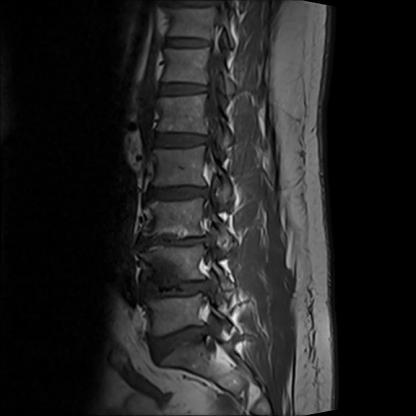Disc Bulgerotation: (141, 309, 230, 357), (134, 222, 222, 259)
